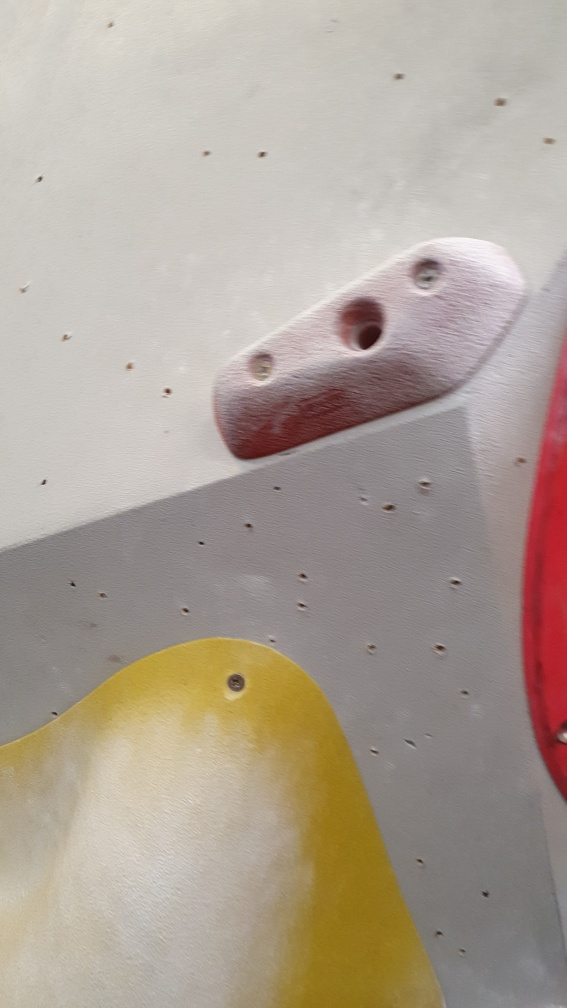Pinch: (211, 237, 522, 465)
